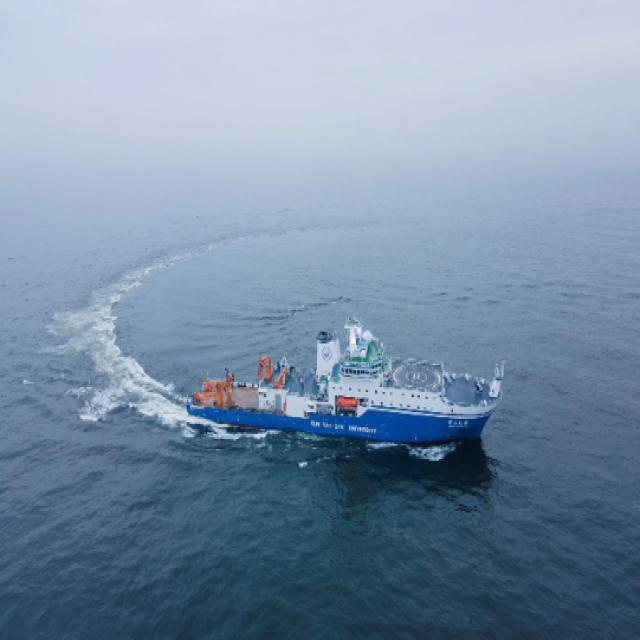fishing boat: (184, 314, 516, 464)
